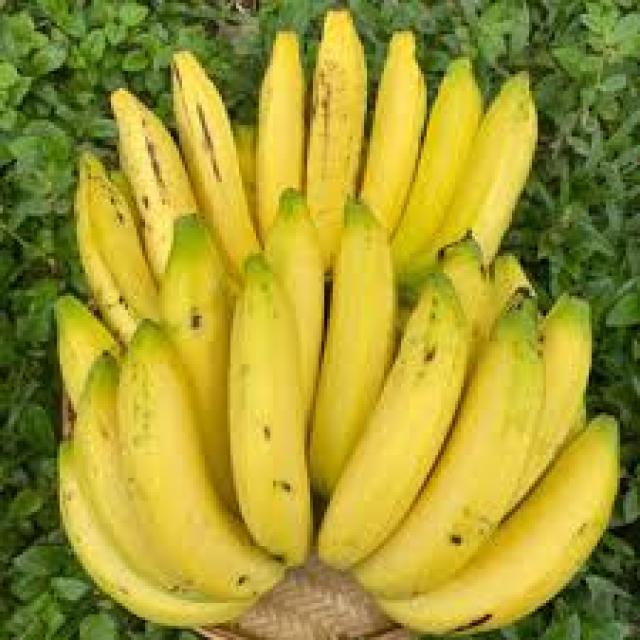Banana: (45, 8, 621, 635)
